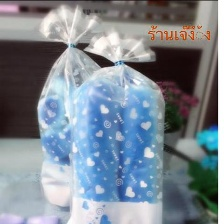snack: (61, 26, 171, 224), (29, 1, 113, 211)
